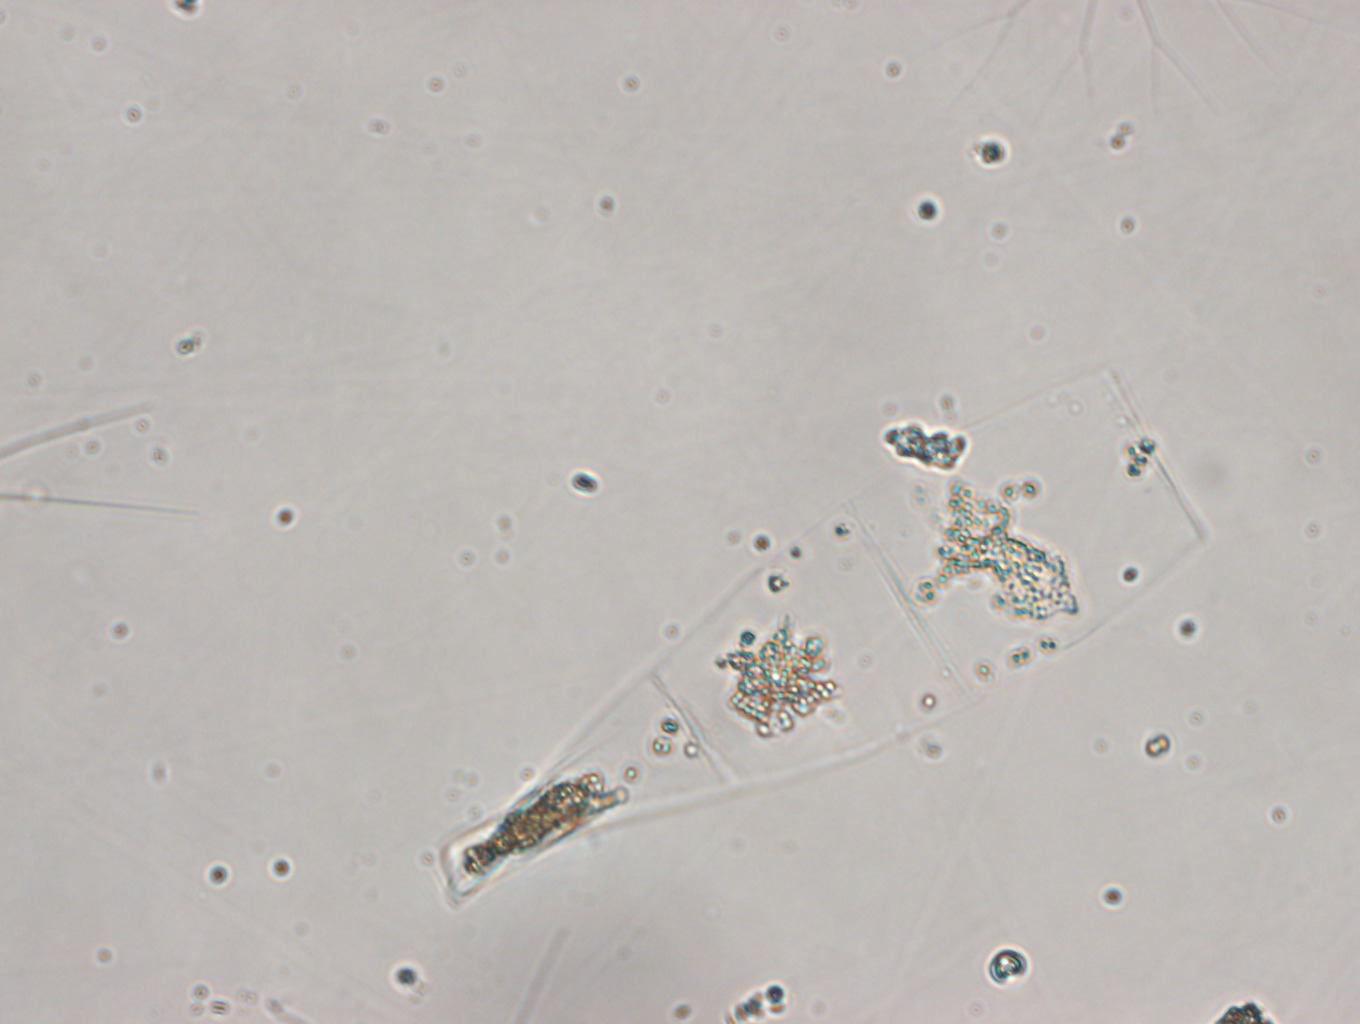helicotheca: (440, 362, 1208, 910)
